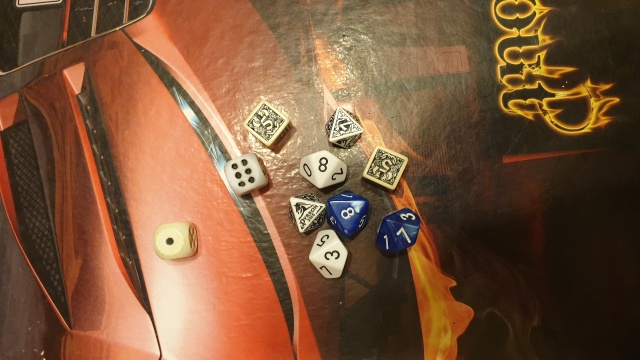d10-3: (306, 226, 349, 282)
d10-7: (370, 205, 421, 256)
d10-8: (298, 148, 348, 191), (334, 202, 360, 225)
d6-1: (149, 221, 198, 260)
d6-6: (221, 151, 270, 197)
d6p-5: (240, 99, 294, 150), (362, 145, 408, 192)
d8p-1: (287, 191, 326, 234)
d8p-7: (319, 104, 364, 151)
